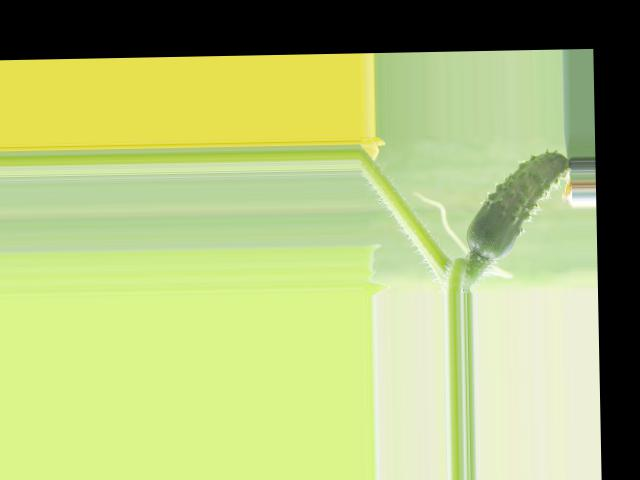cucumber: (462, 150, 570, 259)
